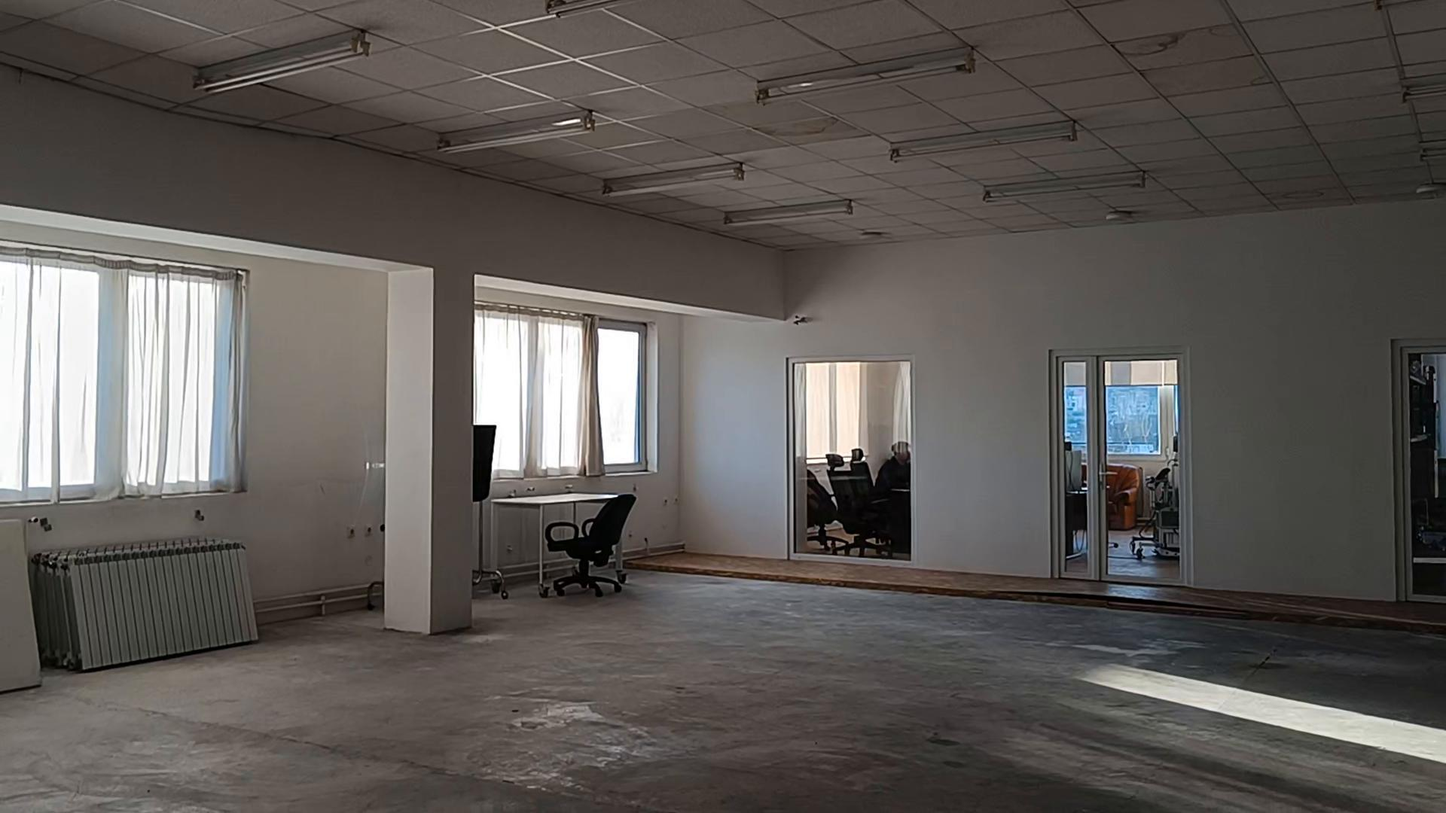ceiling: (0, 0, 1445, 248)
floor: (0, 573, 1445, 812)
pillar: (383, 268, 474, 634)
